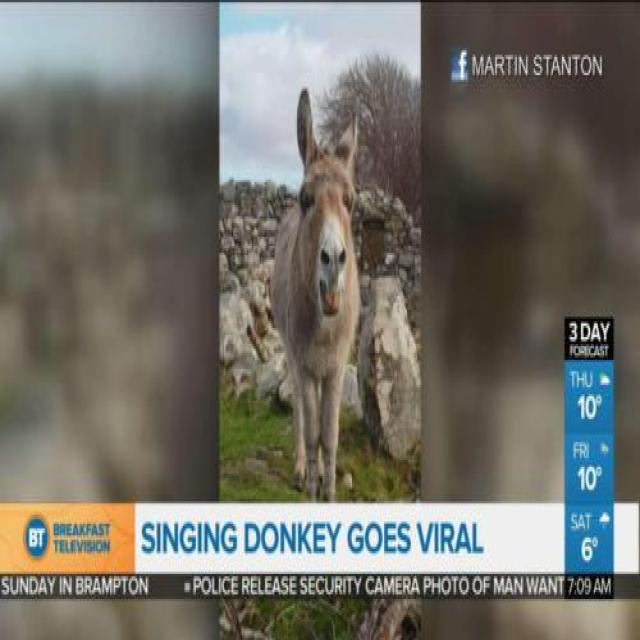Donkey: (272, 88, 362, 512)
